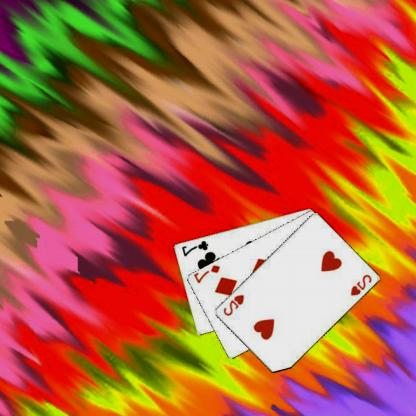2H: (349, 272, 375, 297), (222, 292, 247, 317)
7C: (181, 238, 211, 258)
7D: (194, 262, 224, 284)
